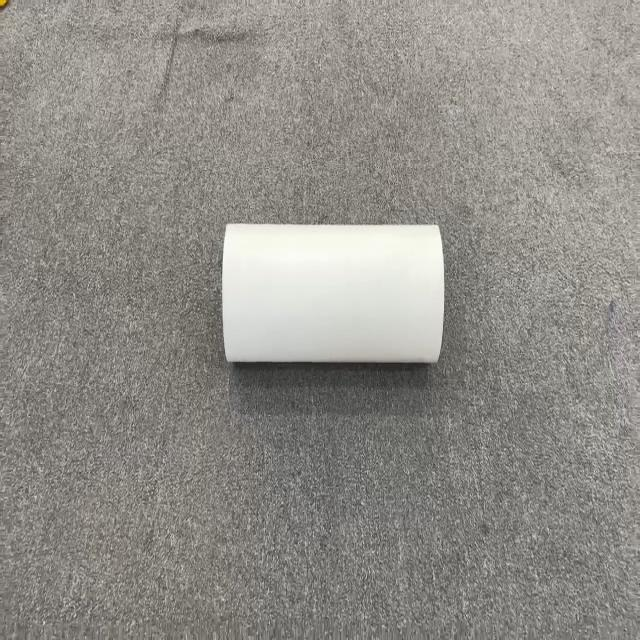coral: (221, 220, 445, 366)
